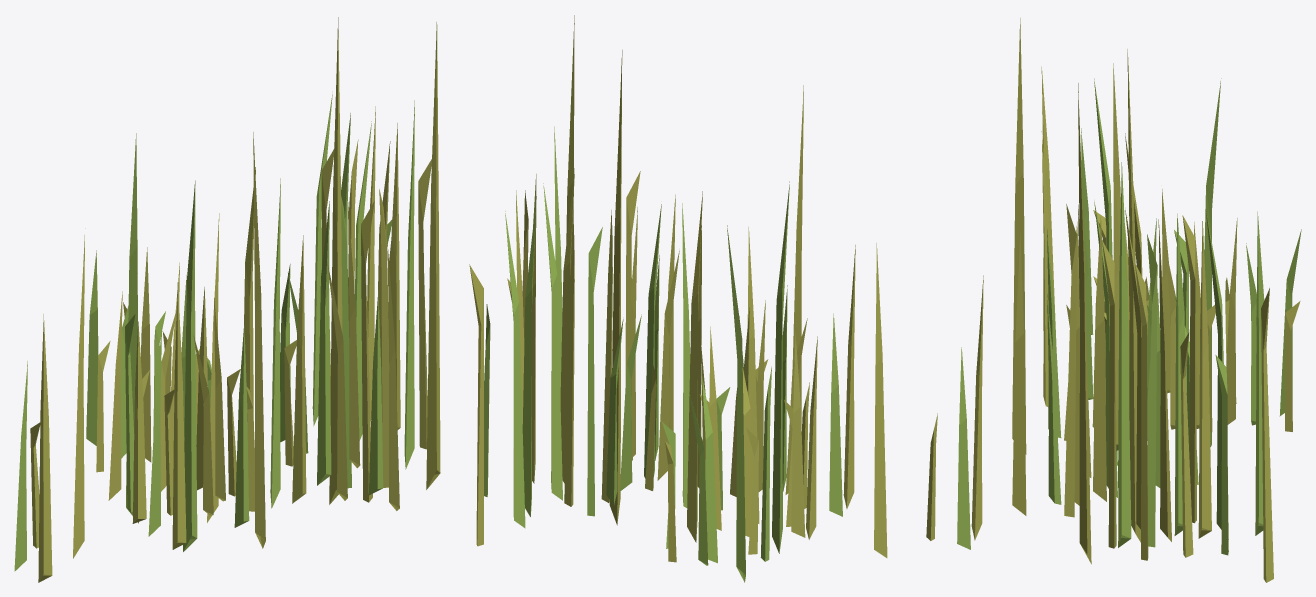
File: fbxLongergrass.fbx
3 views of the same model, side by side, from view 1: azimuth 30°, elevation 25°; view 2: azimuth 150°, elevation 25°; view 3: azimuth 270°, elevation 25° (orthographic). The views are drawn at different scales.
Parts seen in each view (by area): view 1: pCylinder311; view 2: pCylinder311; view 3: pCylinder311.
Part boxes in pixels (x1,y1,x2,y2): pCylinder311: [14, 17, 440, 582]; pCylinder311: [469, 15, 983, 582]; pCylinder311: [1012, 18, 1301, 582].
Bounding box in the file's own units: 18.05 × 19.22 × 10.01.
